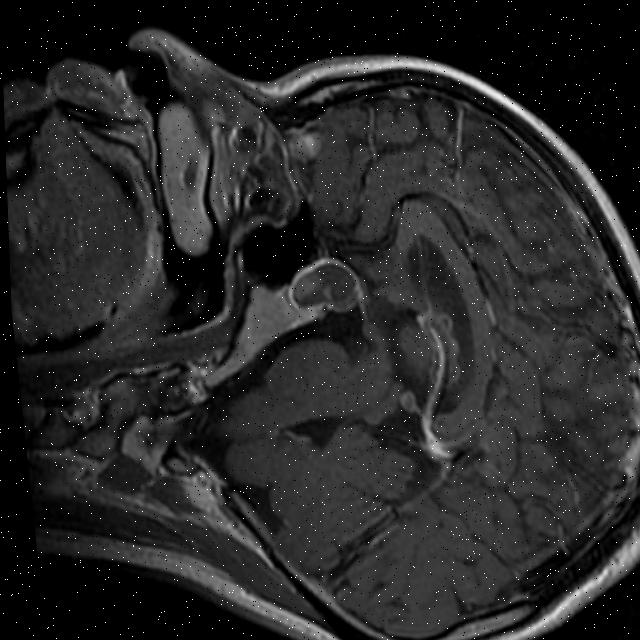Pituitary: (284, 253, 364, 318)
